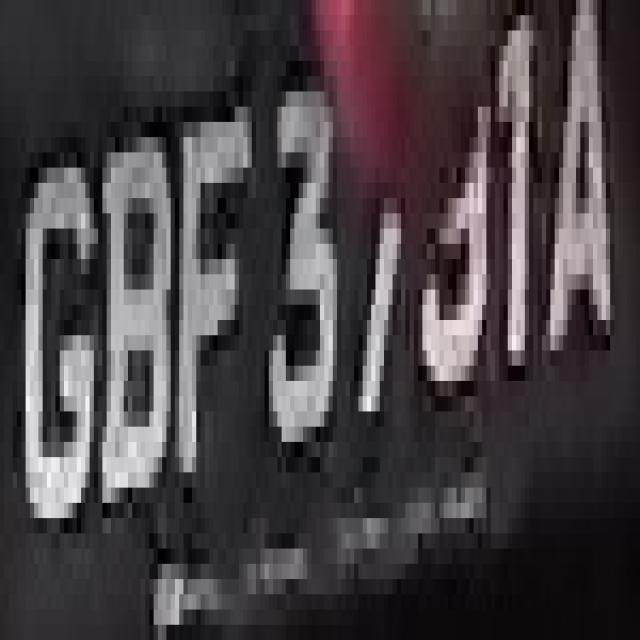1: (495, 91, 538, 442)
3: (256, 76, 337, 488)
7: (337, 45, 422, 488)
A: (542, 16, 619, 412)
B: (102, 107, 175, 518)
F: (171, 61, 243, 549)
G: (21, 106, 111, 548)
